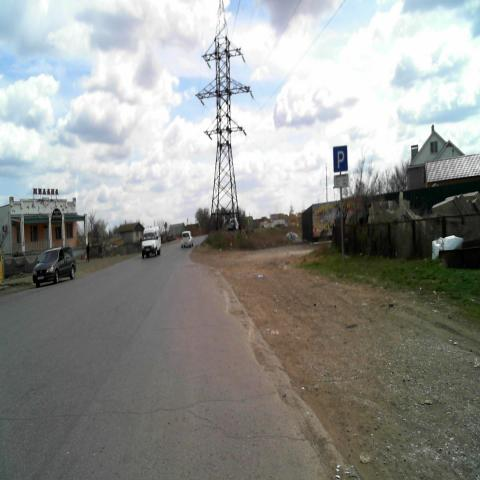6_4: (332, 145, 348, 172)
